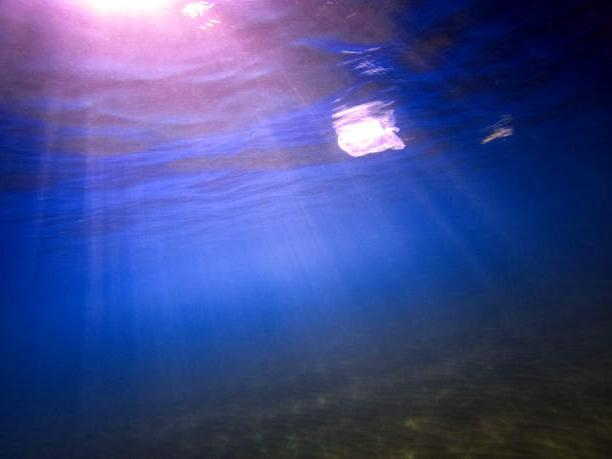Trash: (322, 115, 406, 160)
